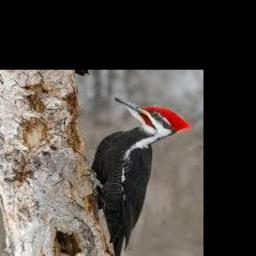Woodpecker: (90, 96, 192, 256)
